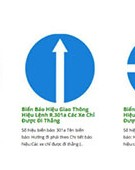Go_straight: (25, 33, 97, 105)
